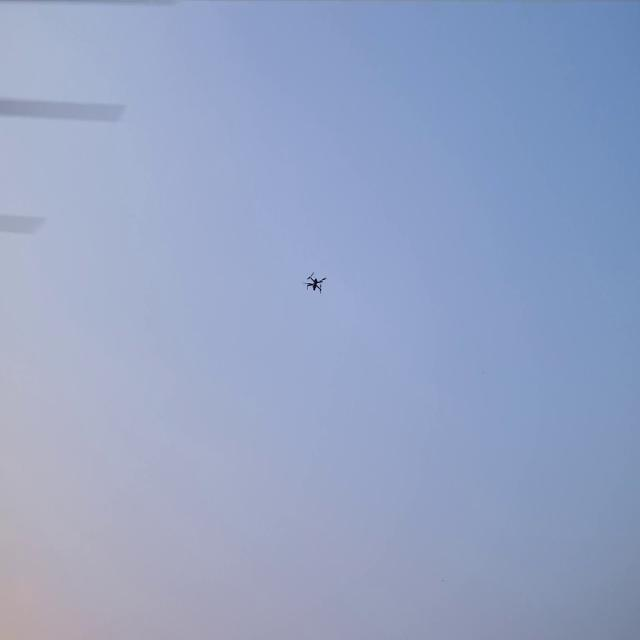UAV: (302, 270, 328, 294)
